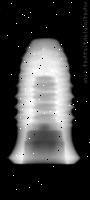Cowellmedi: (8, 37, 81, 165)
